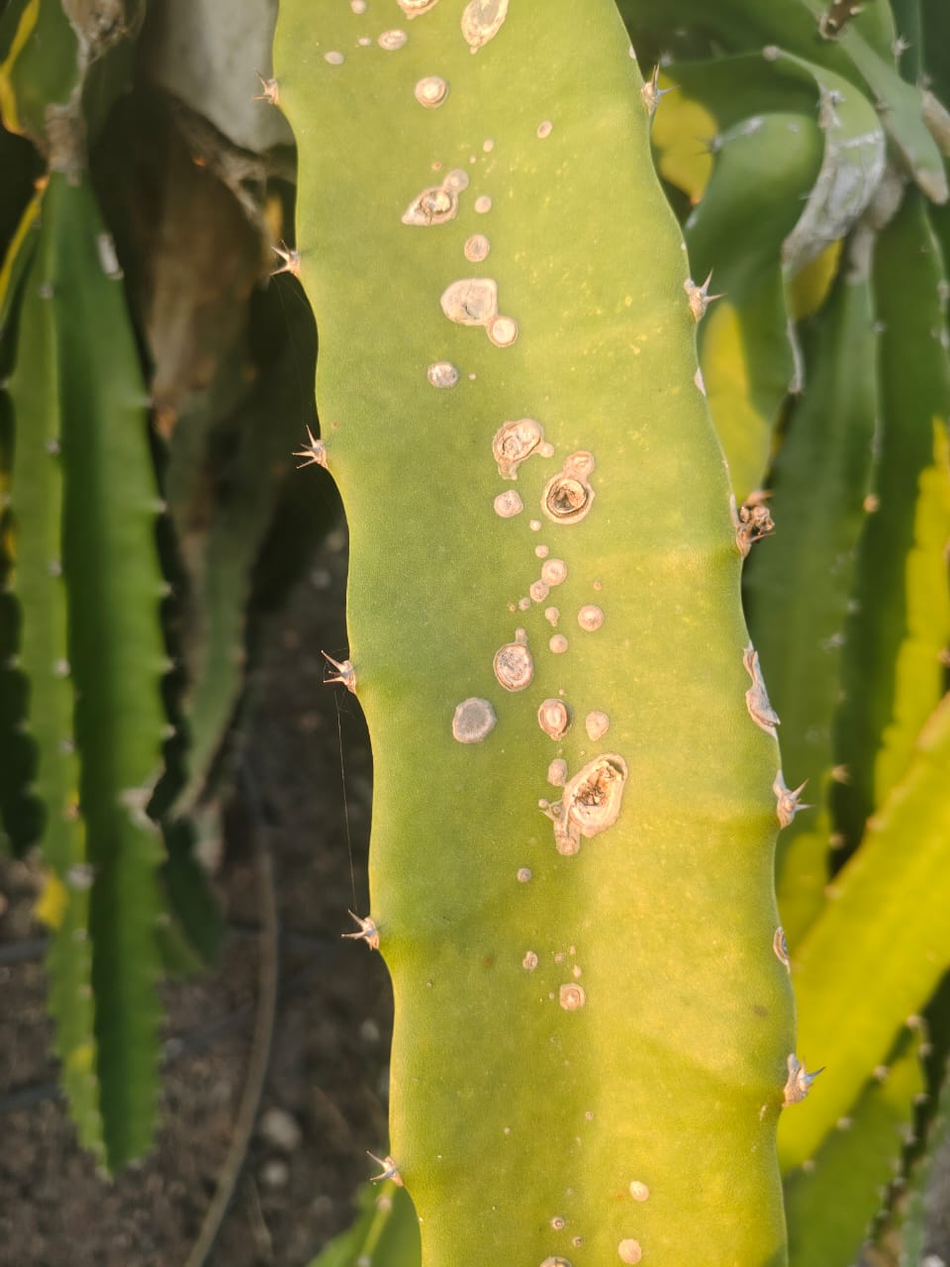stemcanker: (267, 1, 819, 1267)
